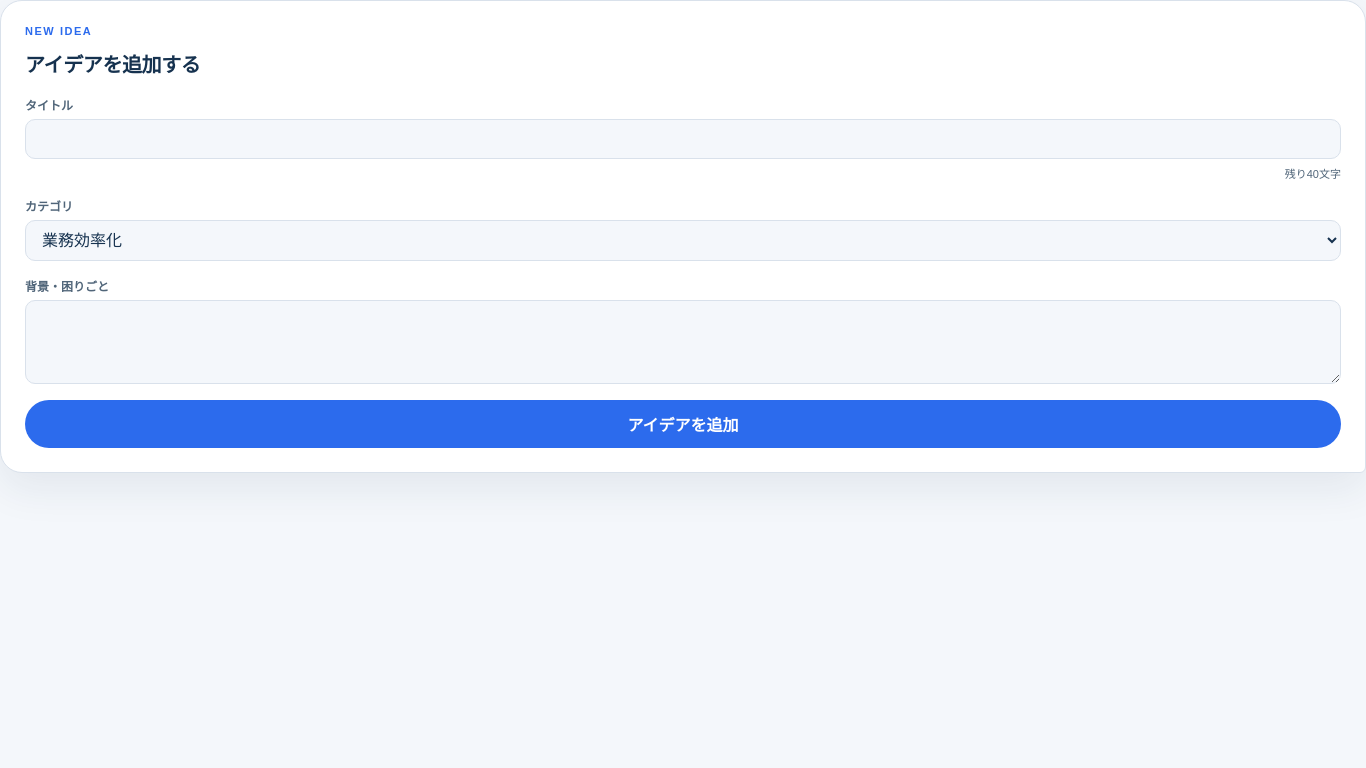
Test: Ticket C: アイデア追加フォーム › タイトルが3文字未満の場合は理由を表示して追加しない
In the field labelled "タイトル": {"x": 683, "y": 139} [25,119,1341,159], type "AB"
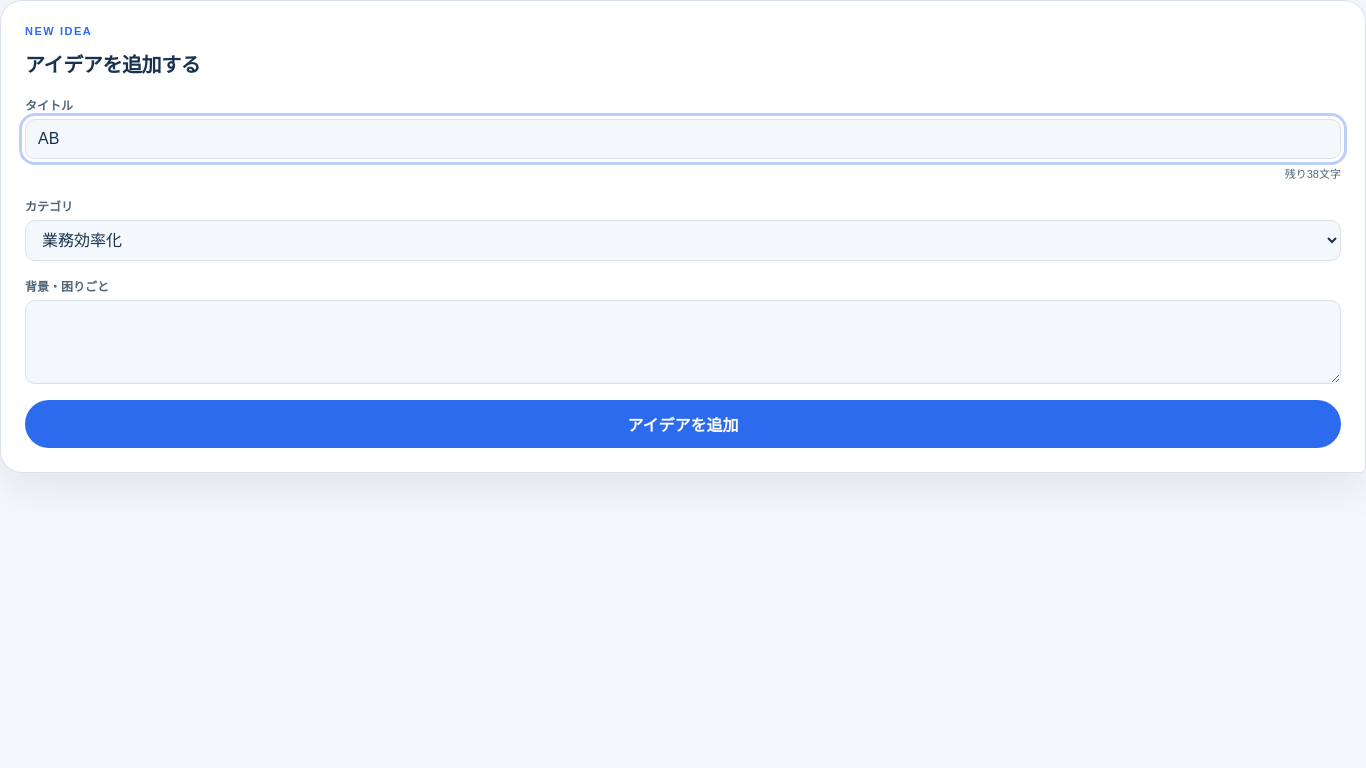
Click the button "アイデアを追加": {"x": 683, "y": 424} [25,400,1341,448]
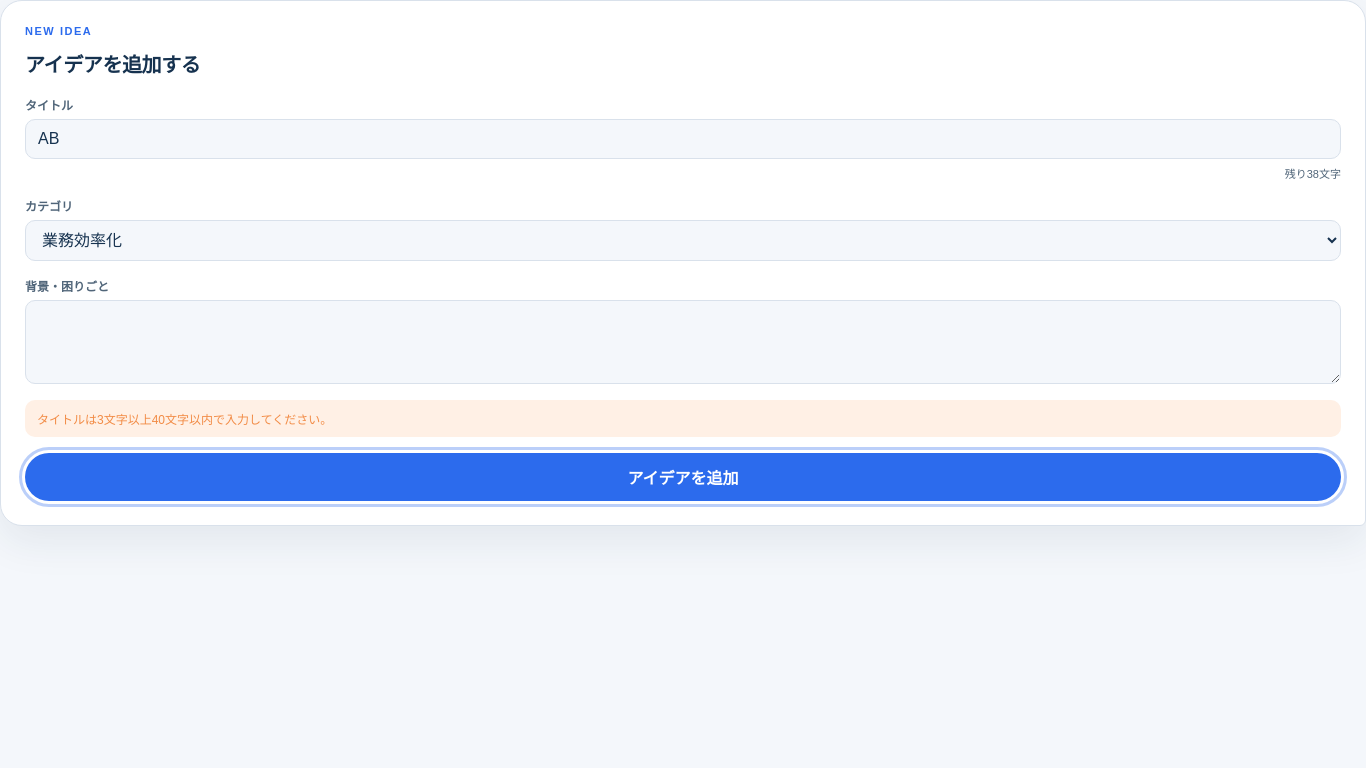
Now the message shows "3文字以上", box [37,413,332,427]
